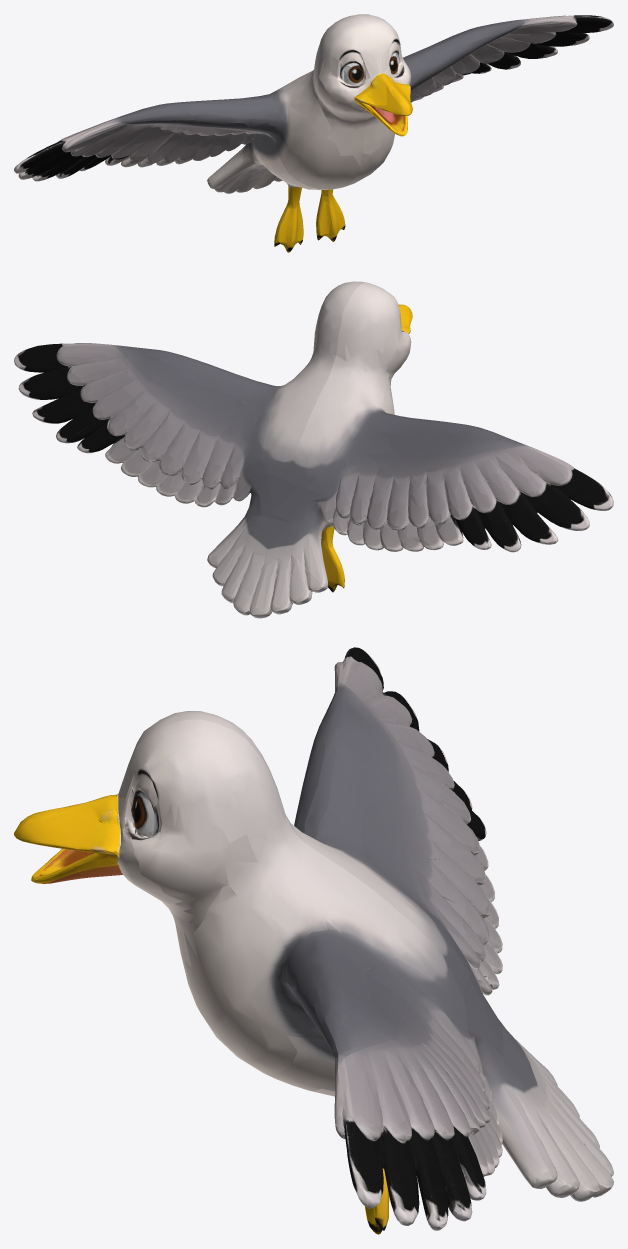
Rendered from seagull_src.glb.
3 views of the same model, one above another, from view 1: azimuth 30°, elevation 25°; view 2: azimuth 150°, elevation 25°; view 3: azimuth 270°, elevation 25° (orthographic). The views are drawn at different scales.
Visible parts, largest first — view 1: Mesh_0; view 2: Mesh_0; view 3: Mesh_0.
Boxes of the visible parts, x1=… form: Mesh_0: x1=14, y1=14, x2=613, y2=252; Mesh_0: x1=14, y1=281, x2=613, y2=618; Mesh_0: x1=14, y1=647, x2=613, y2=1234.
Size of the model in its own units: 1.9 by 0.8051 by 0.8856.
Materials: 1 (1 with a texture image).
